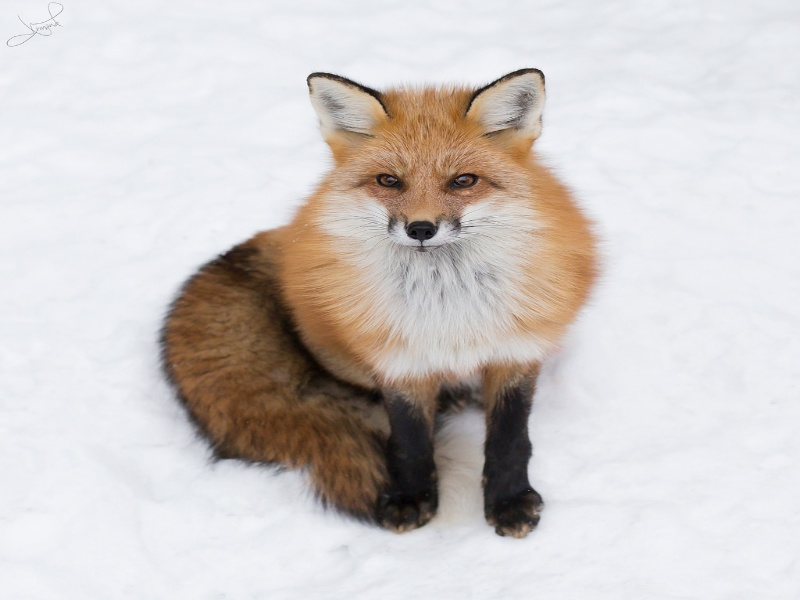fox: (156, 66, 614, 545)
